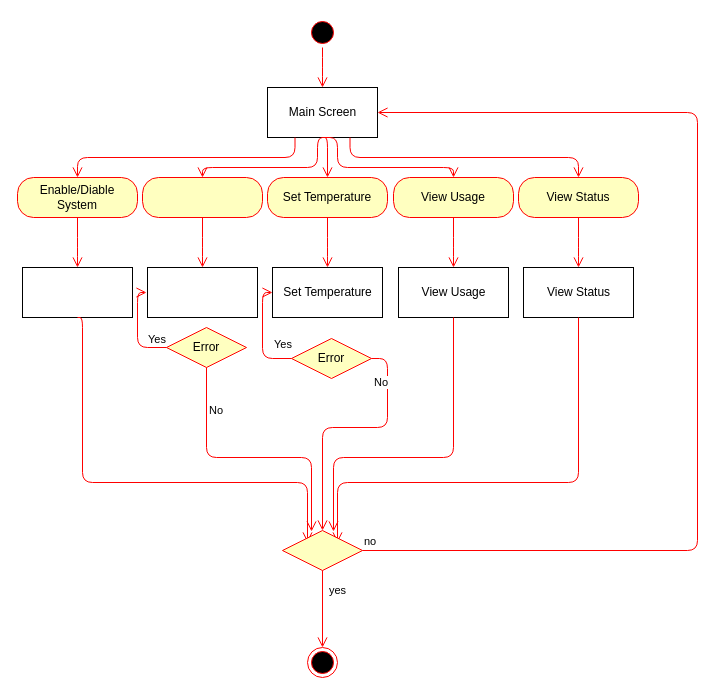
This 725x695 diagram has some shape labels left out. The shapes that lost their labels are listed below. From the top down, each one's centre as x and y in pixels, then its label:
point 202,197: Set Scheduling
point 77,292: Enable/Disable
point 202,292: Set Schedule
point 322,550: Power Off
